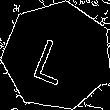L_N: (33, 26, 81, 85)
